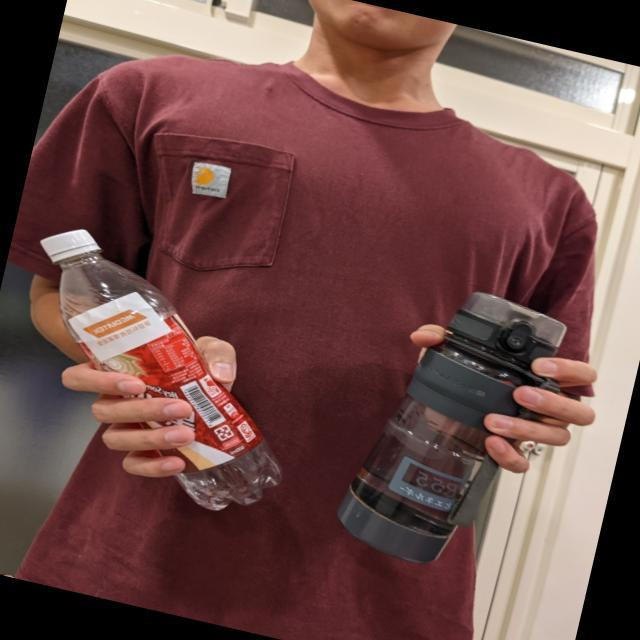good: (0, 180, 333, 521)
